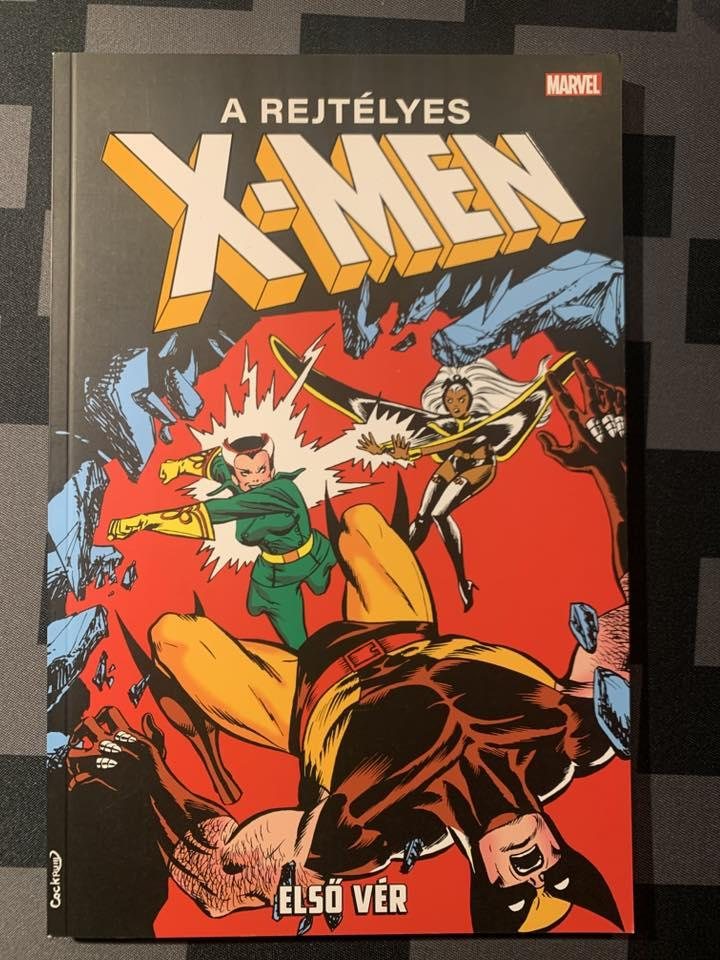comic: (41, 50, 631, 938)
